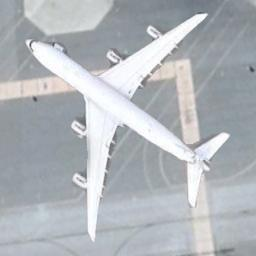Airplane: (24, 10, 230, 242)
